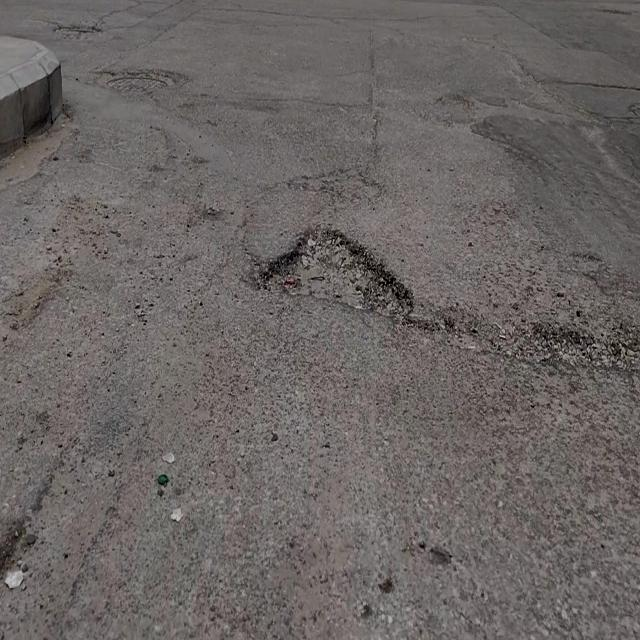Potholes: (267, 232, 409, 317)
